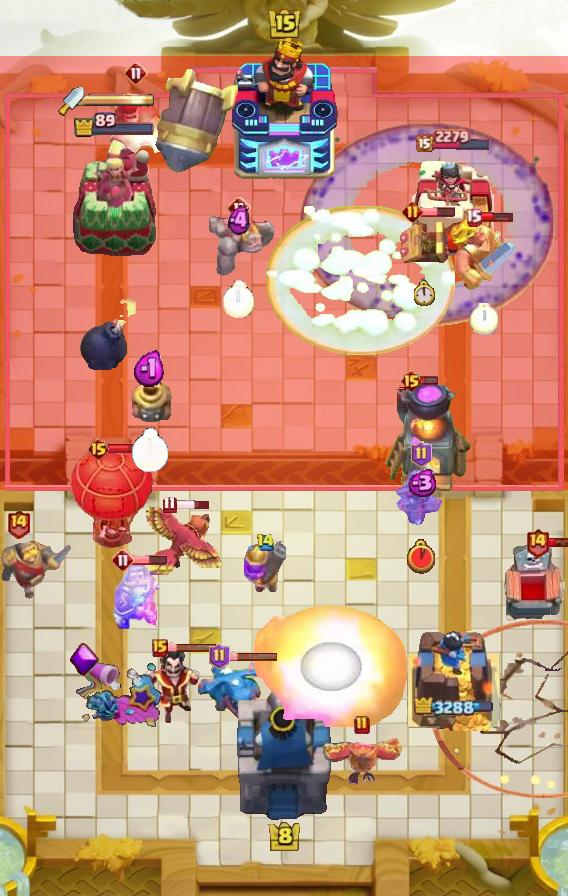baby-dragon: (79, 299, 139, 371)
bar: (70, 138, 158, 256)
bomb-tower: (244, 541, 286, 595)
cannon-cart: (70, 447, 154, 549)
electro-spirit: (133, 350, 167, 388), (404, 469, 438, 497), (228, 205, 250, 236)
elixir: (131, 427, 169, 472), (223, 280, 255, 318), (407, 539, 435, 574), (470, 303, 498, 335), (414, 280, 436, 306)
elixir-golem-mid: (498, 544, 568, 630)
emote: (166, 642, 218, 653), (227, 651, 279, 662), (173, 499, 210, 511), (420, 206, 456, 218), (108, 442, 144, 454), (132, 554, 168, 566), (479, 211, 512, 223), (548, 537, 568, 548), (420, 374, 439, 385)
firecracker: (0, 540, 74, 600)
firecracker-evolution: (113, 561, 160, 629)
goblin-brawler: (398, 217, 452, 267)
goblin-drill: (127, 377, 173, 423)
goblin-hut: (448, 215, 520, 295)
golden-knight: (142, 503, 224, 575), (321, 737, 403, 787)
graveyard: (198, 658, 268, 722)
guard: (432, 621, 568, 800)
hunter: (384, 385, 472, 495)
king-tower: (230, 41, 338, 181), (232, 686, 336, 826)
king-tower-bar: (84, 93, 156, 107)
lumberjack: (142, 650, 204, 726)
phoenix-big: (264, 205, 456, 355)
phoenix-small: (107, 90, 165, 154)
queen-tower: (405, 621, 501, 731), (412, 156, 494, 256)
rocket: (299, 122, 555, 326)
selected: (72, 112, 155, 138), (416, 128, 493, 152), (414, 698, 494, 719)
skeleton-dragon: (395, 467, 447, 525)
skeleton-king-skill: (69, 643, 99, 677)
text: (5, 508, 30, 539), (525, 527, 550, 558), (124, 61, 148, 85), (227, 196, 251, 220), (111, 548, 135, 572), (209, 643, 231, 669), (400, 369, 423, 393), (86, 437, 109, 461), (412, 441, 433, 467), (401, 201, 422, 223), (256, 533, 276, 552), (465, 209, 483, 228), (354, 715, 370, 735), (152, 639, 168, 657), (163, 495, 178, 513)
valkyrie: (252, 605, 408, 727)
valkyrie-evolution: (204, 212, 274, 278)
x-bow: (155, 67, 239, 174)
